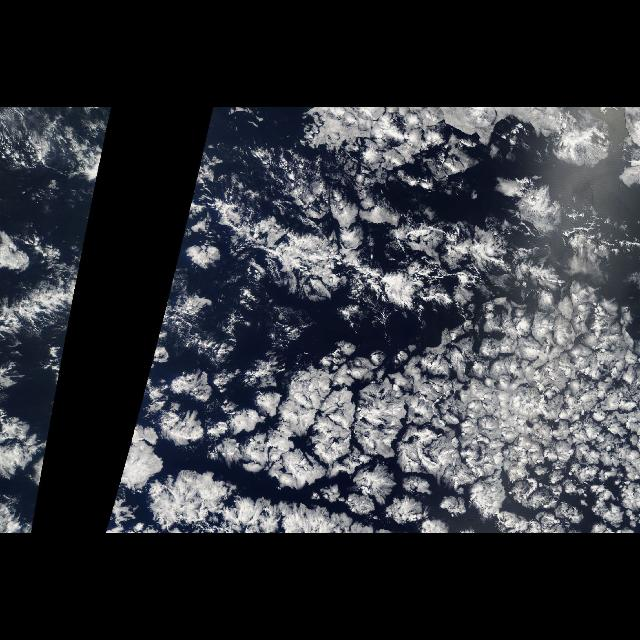Flower: (193, 181, 633, 533)
